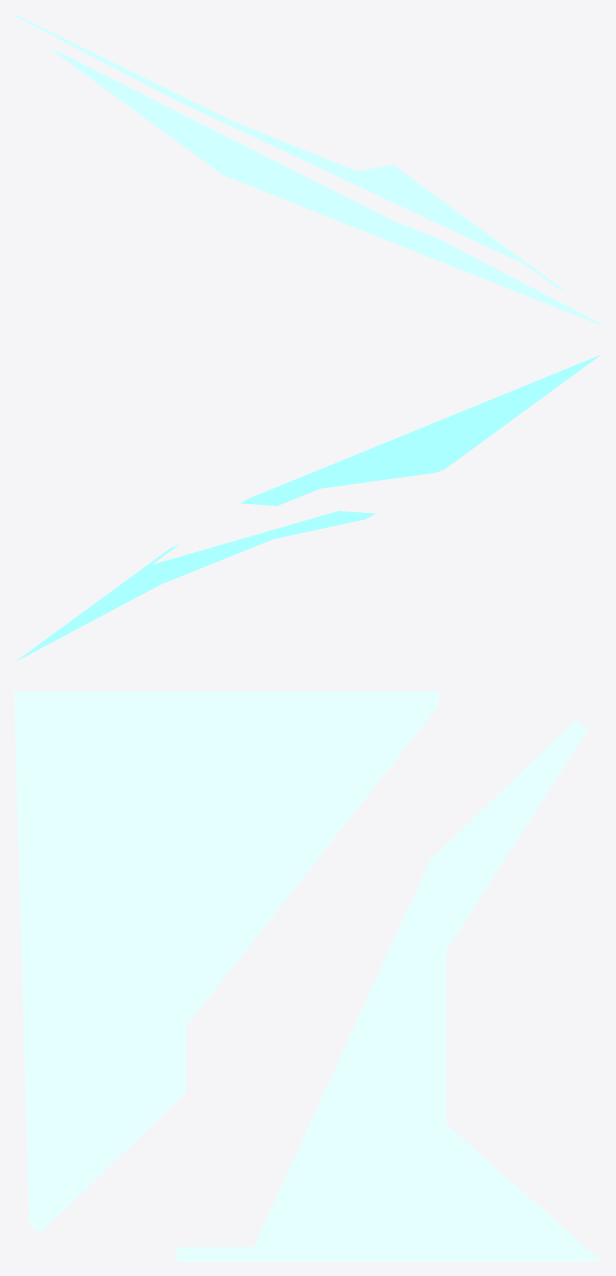
Rendered from Rune_Glow_9.fbx.
The picture shows the model from 3 angles, top to bottom: view 1: azimuth 30°, elevation 25°; view 2: azimuth 150°, elevation 25°; view 3: azimuth 270°, elevation 25°; orthographic projection. The views are drawn at different scales.
Visible parts, largest first — view 1: Rune9; view 2: Rune9; view 3: Rune9.
Part boxes in pixels (box(x1,y1,x2,y2)): Rune9: box(14, 14, 601, 325); Rune9: box(15, 354, 601, 661); Rune9: box(14, 691, 601, 1261).
Size of the model in its own units: 0.4548 by 0.2812 by 0.4611.
